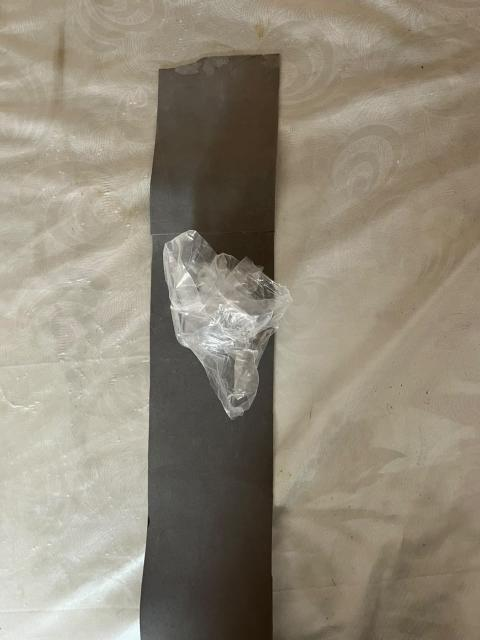LDPE: (142, 217, 307, 433)
